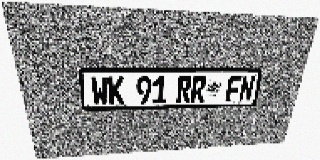1: (152, 76, 167, 104)
9: (136, 76, 152, 104)
F: (225, 76, 242, 102)
K: (108, 76, 125, 105)
N: (238, 76, 255, 101)
R: (190, 76, 207, 103), (176, 76, 192, 103)
W: (90, 76, 109, 105)
